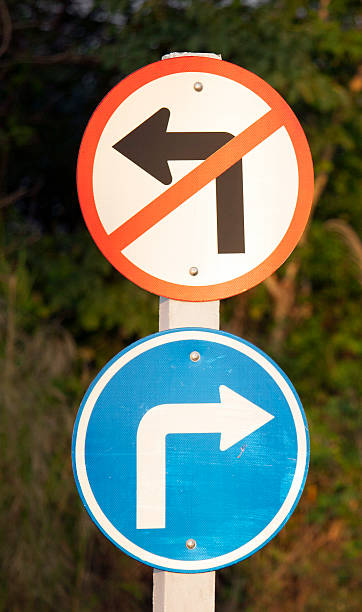ileriden_saga: (69, 322, 312, 565)
sola_girilmez: (80, 54, 316, 303)
